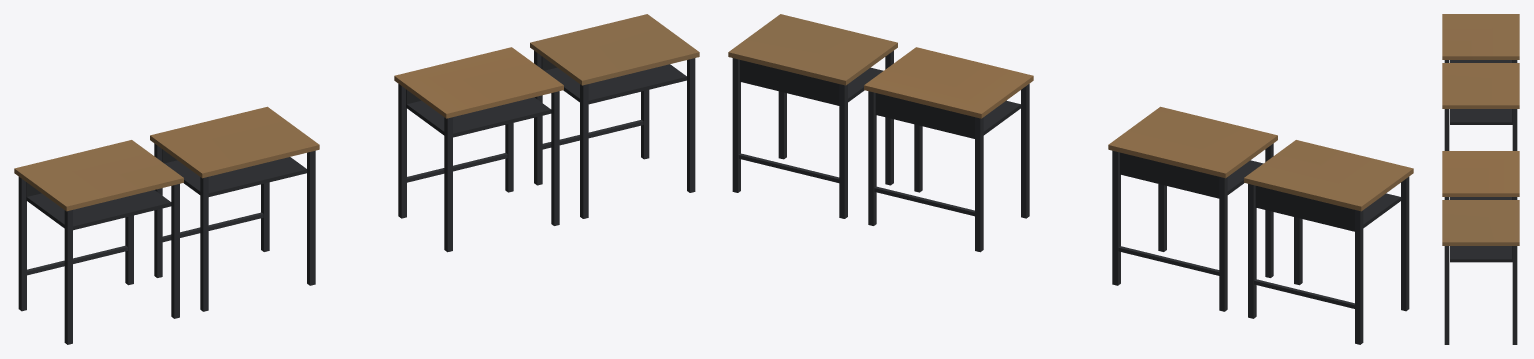
File: table.school_desks.empty.glb
3 renders of one model, left to right at view 1: azimuth 30°, elevation 25°; view 2: azimuth 150°, elevation 25°; view 3: azimuth 270°, elevation 25°, orthographic. The views are drawn at different scales.
Parts seen in each view (by area): view 1: table_school_desks_empty; view 2: table_school_desks_empty; view 3: table_school_desks_empty.
Part boxes in pixels (x1,y1,x2,y2): table_school_desks_empty: (14, 14, 699, 344); table_school_desks_empty: (728, 14, 1413, 344); table_school_desks_empty: (1442, 14, 1519, 344).
Size of what is drawn, in the model's own units: 3.5 by 0.74 by 0.5.
